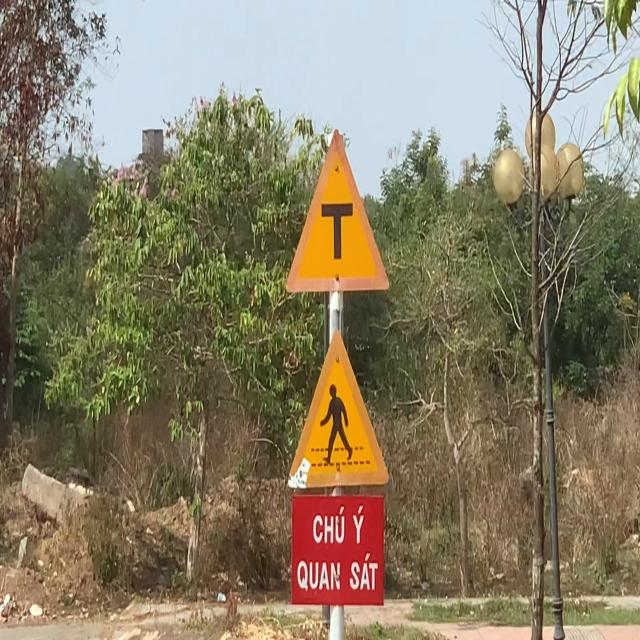Duong giao nhau: (285, 126, 391, 295)
Nguoi di bo cat ngang: (287, 326, 390, 492)
